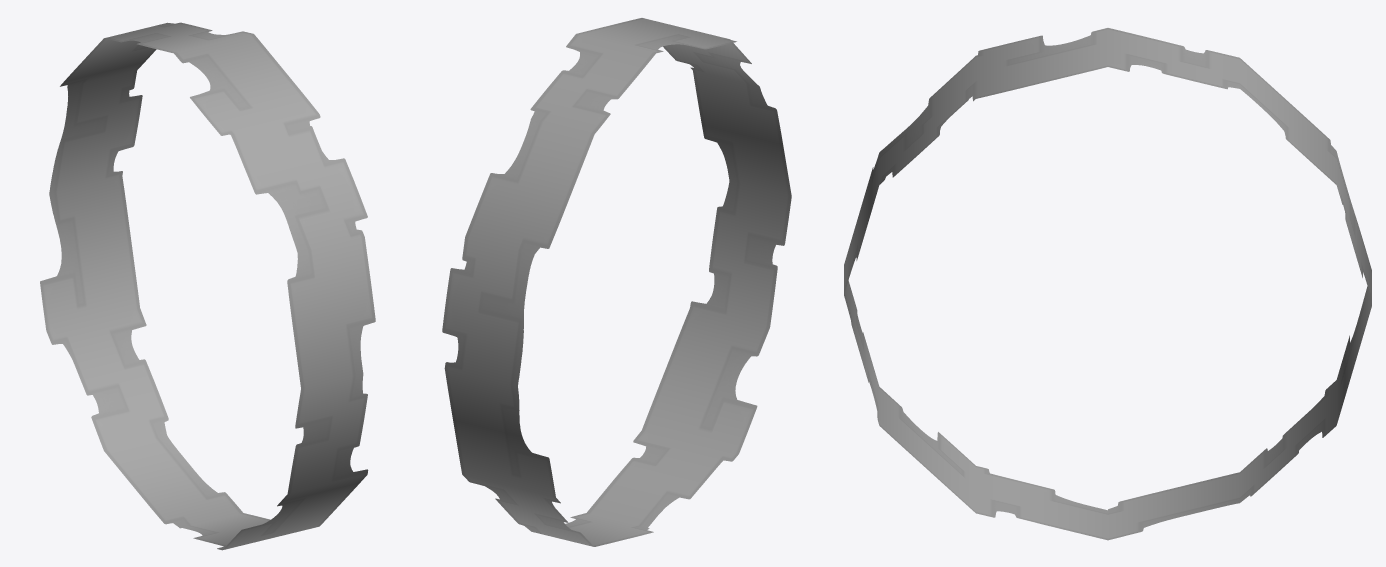
Rendered from lanceeffects_out_01.fbx.
3 views of the same model, side by side, from view 1: azimuth 30°, elevation 25°; view 2: azimuth 150°, elevation 25°; view 3: azimuth 270°, elevation 25° (orthographic).
Parts seen in each view (by area): view 1: ranceeffect_out_mesh01; view 2: ranceeffect_out_mesh01; view 3: ranceeffect_out_mesh01.
Boxes of the visible parts, x1=… form: ranceeffect_out_mesh01: x1=40, y1=22, x2=375, y2=550; ranceeffect_out_mesh01: x1=442, y1=18, x2=791, y2=546; ranceeffect_out_mesh01: x1=844, y1=28, x2=1371, y2=540.
Bounding box in the file's own units: 18.66 × 68.8 × 68.8.
Materials: 1 (1 with a texture image).
